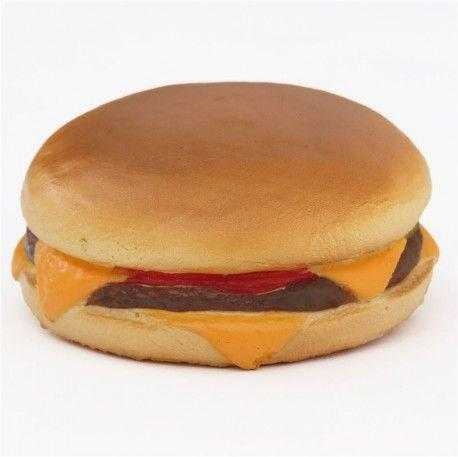hamburger: (10, 72, 441, 367)
